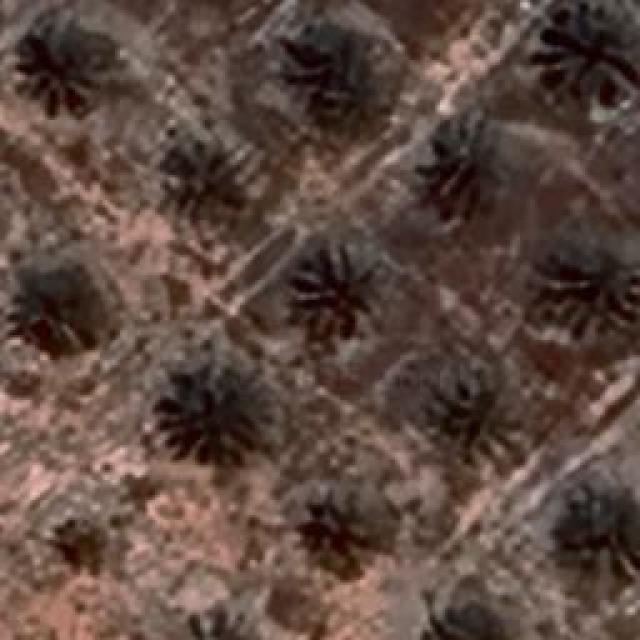PalmTree: (70, 65, 608, 536), (424, 107, 518, 220), (542, 2, 638, 100), (162, 360, 260, 455), (298, 20, 390, 120), (10, 12, 100, 106), (547, 240, 635, 335), (295, 242, 383, 332), (6, 271, 106, 349), (160, 140, 248, 228), (65, 88, 81, 547), (440, 367, 518, 455), (298, 499, 376, 569), (428, 602, 523, 640), (176, 601, 268, 640)
